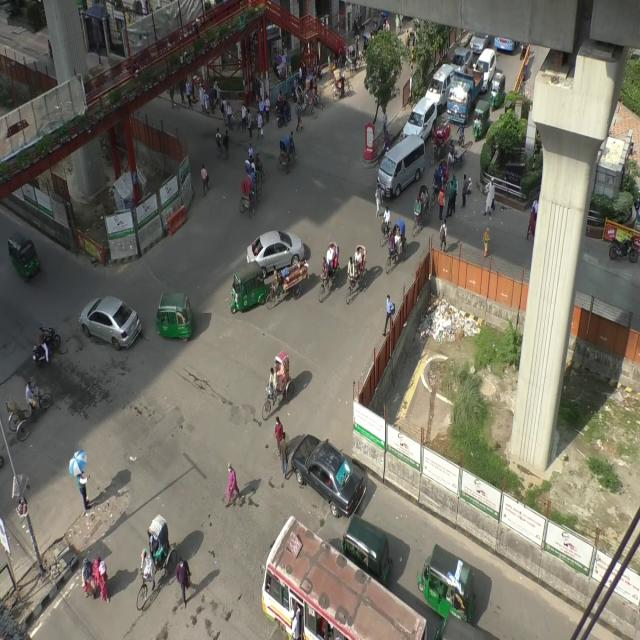cng: (422, 537, 473, 623), (154, 286, 195, 346), (231, 259, 265, 318), (4, 234, 44, 281), (473, 96, 491, 140), (488, 66, 506, 108)
rikshaw: (135, 516, 174, 618), (260, 346, 292, 426), (383, 218, 410, 276), (319, 241, 342, 305), (347, 241, 368, 306), (430, 158, 452, 212), (275, 129, 302, 170), (242, 172, 263, 216), (293, 86, 319, 121), (412, 180, 428, 235), (330, 66, 352, 105), (306, 71, 324, 114), (345, 43, 365, 79)
